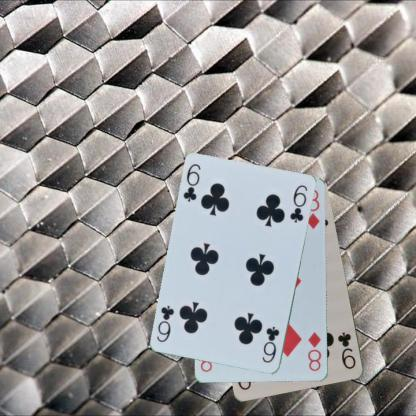6c: (180, 162, 202, 204), (259, 324, 281, 365)
8d: (304, 329, 323, 373)
9c: (335, 329, 357, 371)
